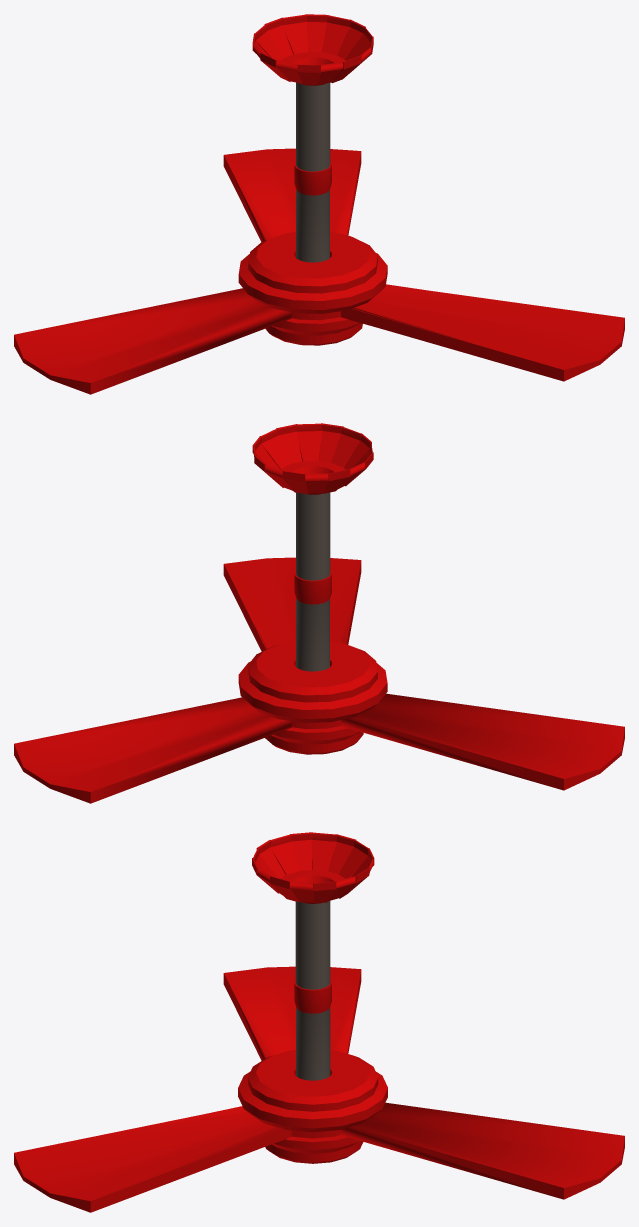
The model's file is fan3.glb.
The picture shows the model from 3 angles, top to bottom: view 1: azimuth 30°, elevation 25°; view 2: azimuth 150°, elevation 25°; view 3: azimuth 270°, elevation 25°; orthographic projection.
Parts seen in each view (by area): view 1: Fan3_Tris; view 2: Fan3_Tris; view 3: Fan3_Tris.
Part boxes in pixels (box(x1,y1,x2,y2)): Fan3_Tris: box(14, 14, 624, 394); Fan3_Tris: box(14, 423, 624, 803); Fan3_Tris: box(14, 832, 624, 1212).
Size of the model in its own units: 3.61 by 2.02 by 3.91.
